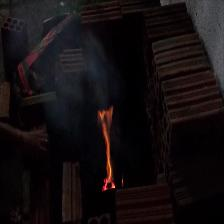fire: (98, 105, 124, 190)
